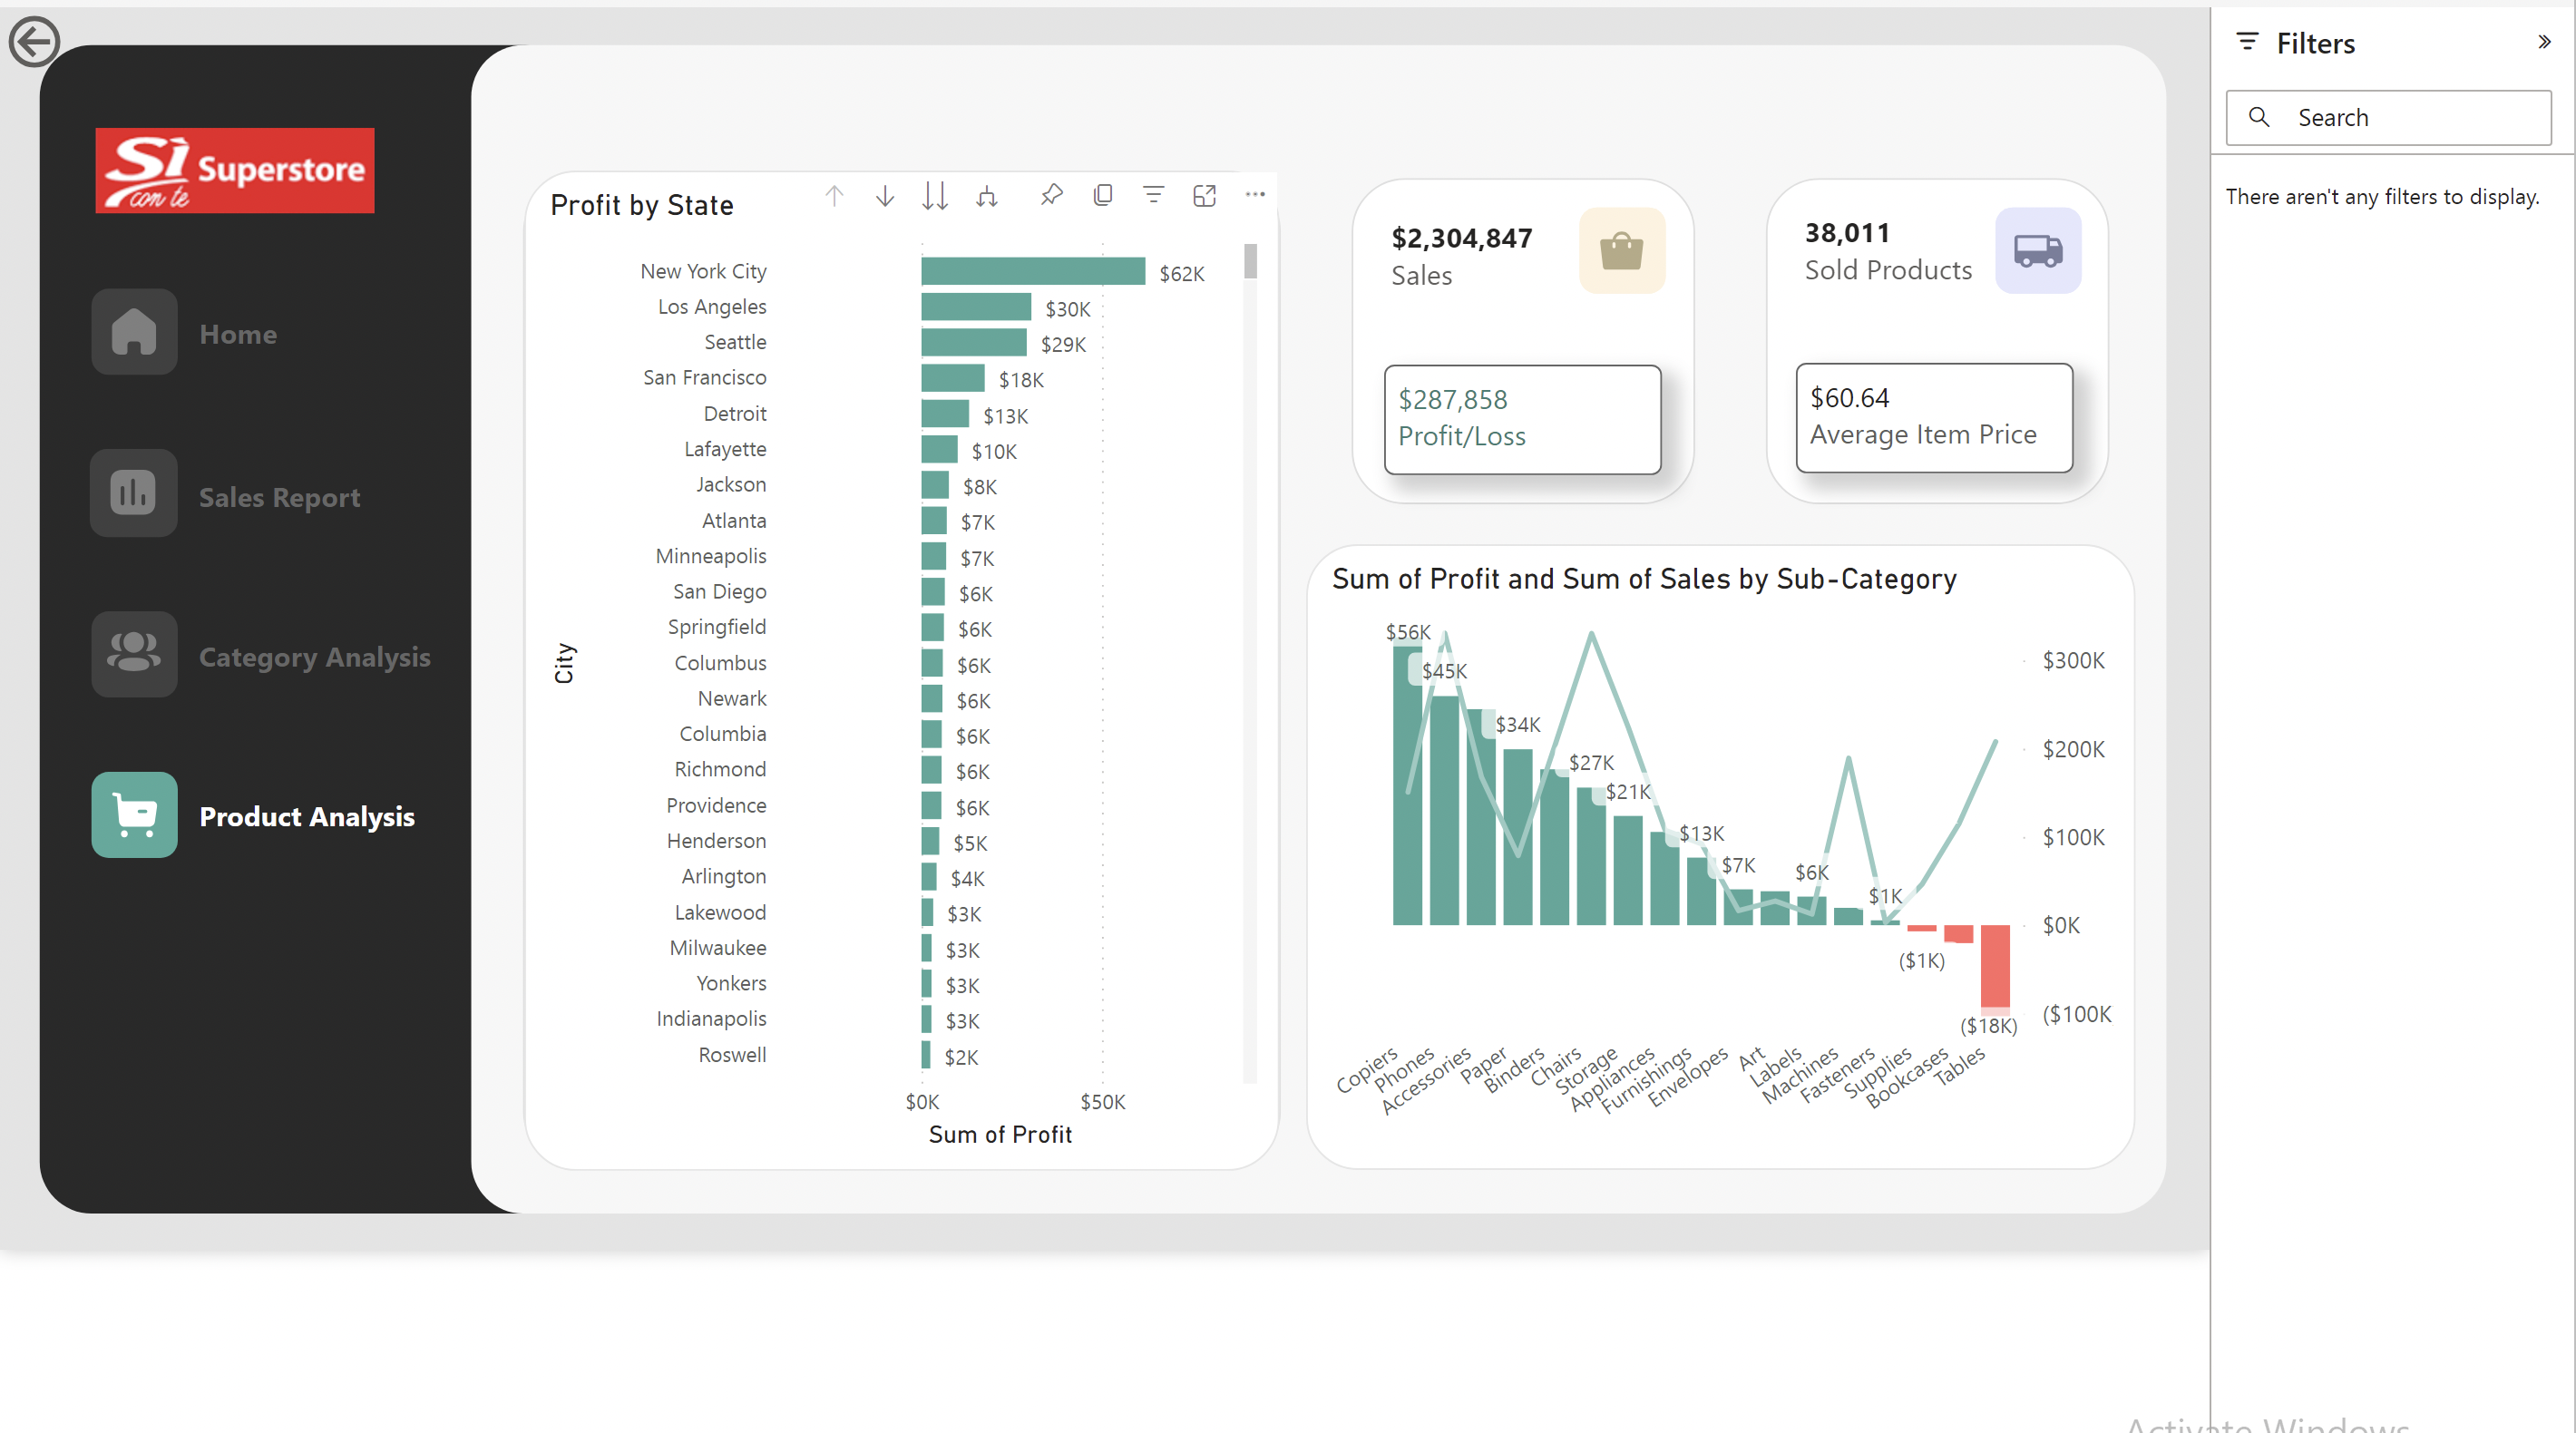

Layout of this report page (visuals, bound fields, positions):
{"tool":"powerbi","page":{"name":"Products Analysis","canvas":[1280,720],"ordinal":3},"visuals":[{"type":"group","id":"g1","title":"Group 1","box":[303.4,94.6,933.6,579.6],"z":0},{"type":"clusteredBarChart","title":"Profit by State","fields":{"Y":["Sum(SalesFact.Profit)"],"Category":["LocationDim.Country Hierarchy.City","LocationDim.Country Hierarchy.Postal Code"]},"box":[303.4,94.6,437.3,579.6],"z":0,"group":"g1"},{"type":"multiRowCard","fields":{"Values":["Sum(SalesFact.Quantity)"]},"box":[1040.8,113,136.8,52.5],"z":0,"group":"g3"},{"type":"multiRowCard","fields":{"Values":["Sum(SalesFact.Sales)"]},"box":[800.8,116.3,136.9,52.5],"z":0,"group":"g2"},{"type":"actionButton","title":"product","box":[111.5,447.5,149.1,40.5],"z":0,"group":"g4"},{"type":"actionButton","box":[0,0,100,40],"z":1000},{"type":"multiRowCard","fields":{"Values":["Sum(SalesFact.Profit)"]},"box":[802.3,206.4,160.9,63.9],"z":1000,"group":"g2"},{"type":"lineClusteredColumnComboChart","fields":{"Category":["CategoryDim.Category Hierarchy.Category","CategoryDim.Category Hierarchy.Sub-Category"],"Y":["Sum(SalesFact.Profit)"],"Y2":["Sum(SalesFact.Sales)"]},"box":[756.6,311,480.4,362.4],"z":1000,"group":"g1"},{"type":"actionButton","title":"category","box":[111.5,354.8,149.1,40.5],"z":1000,"group":"g4"},{"type":"multiRowCard","fields":{"Values":["SalesFact.Avg Item Price (after discount)"]},"box":[1040.4,206.5,160.9,63.9],"z":2000},{"type":"actionButton","title":"sales","box":[111.5,262.1,149.1,40.5],"z":2000,"group":"g4"},{"type":"actionButton","title":"home","box":[111.5,168,99.9,40.5],"z":3000,"group":"g4"},{"type":"group","id":"g2","title":"Sales","box":[800.8,116.3,162.4,154],"z":4000},{"type":"group","id":"g3","title":"products","box":[1040.8,113,136.8,52.5],"z":5000},{"type":"group","id":"g4","title":"navigation","box":[111.5,168,149.1,320],"z":6000},{"type":"image","box":[50.5,8,171.3,172.6],"z":7000}]}

Visuals, with their boxes on the page's 1280x720 design canvas (x1, y1, x2, y2). These are canvas units, not pixel positions in the 2576x1433 screenshot, which may show the page scaled, cropped or inside an application window:
"Group 1" group: (left=303, top=95, right=1237, bottom=674)
"Profit by State" clusteredBarChart: (left=303, top=95, right=741, bottom=674)
multiRowCard - Sum(SalesFact.Quantity): (left=1041, top=113, right=1178, bottom=166)
multiRowCard - Sum(SalesFact.Sales): (left=801, top=116, right=938, bottom=169)
"product" actionButton: (left=112, top=448, right=261, bottom=488)
actionButton: (left=0, top=0, right=100, bottom=40)
multiRowCard - Sum(SalesFact.Profit): (left=802, top=206, right=963, bottom=270)
lineClusteredColumnComboChart - CategoryDim.Category Hierarchy.Category x CategoryDim.Category Hierarchy.Sub-Category: (left=757, top=311, right=1237, bottom=673)
"category" actionButton: (left=112, top=355, right=261, bottom=395)
multiRowCard - SalesFact.Avg Item Price (after discount): (left=1040, top=206, right=1201, bottom=270)
"sales" actionButton: (left=112, top=262, right=261, bottom=303)
"home" actionButton: (left=112, top=168, right=211, bottom=208)
"Sales" group: (left=801, top=116, right=963, bottom=270)
"products" group: (left=1041, top=113, right=1178, bottom=166)
"navigation" group: (left=112, top=168, right=261, bottom=488)
image: (left=50, top=8, right=222, bottom=181)
